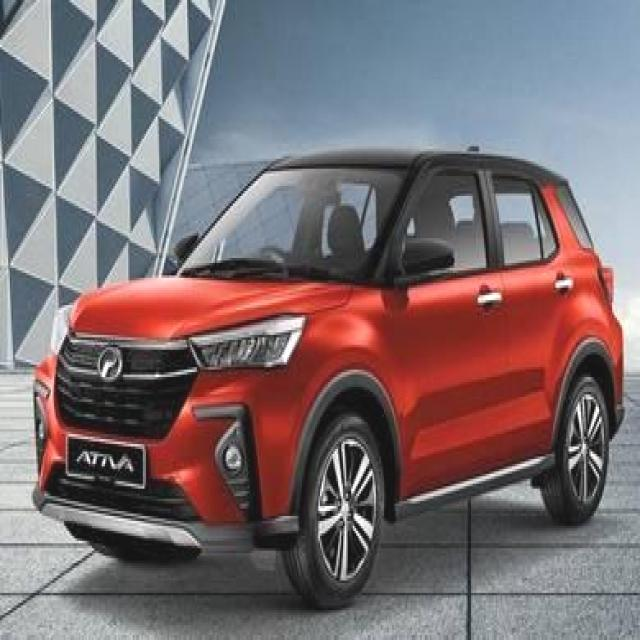PeroduaAtiva: (30, 143, 626, 610)
